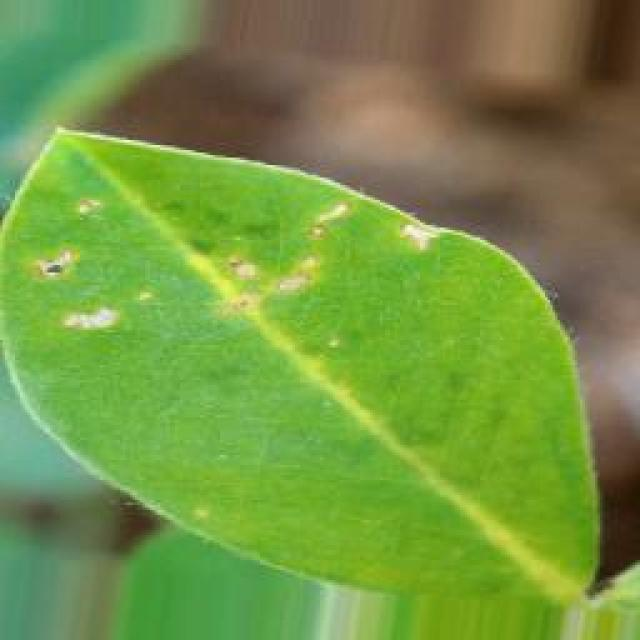Yellow_and_black_sigatoka: (2, 127, 598, 618)
